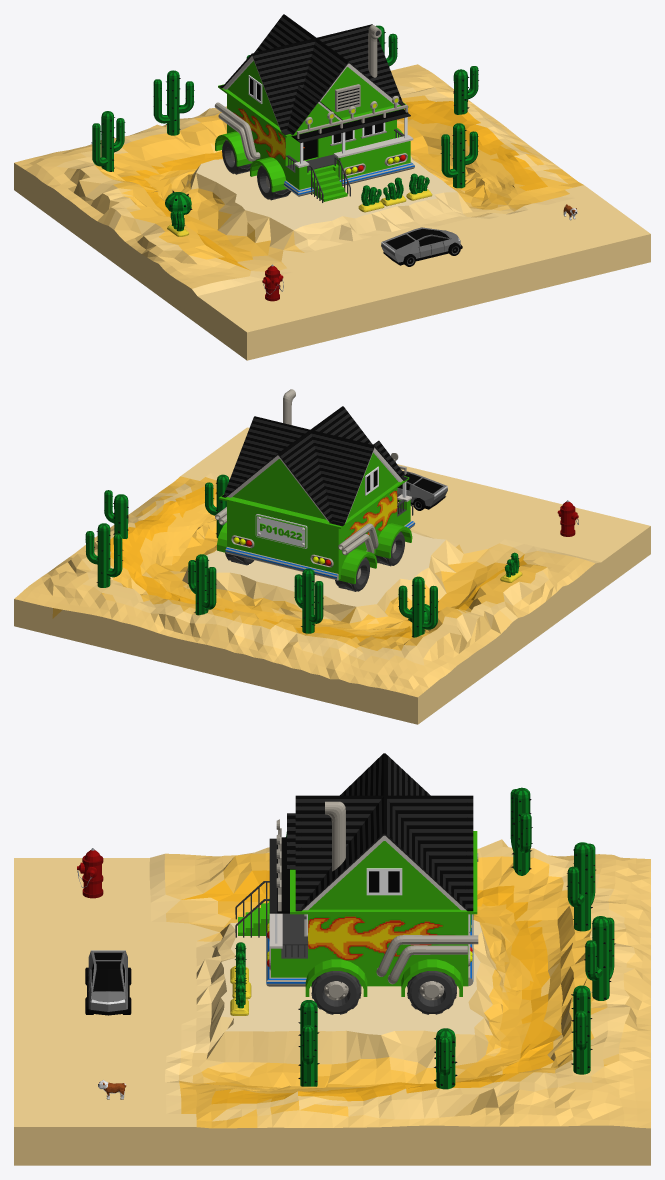
3 renders of one model, top to bottom at view 1: azimuth 30°, elevation 25°; view 2: azimuth 150°, elevation 25°; view 3: azimuth 270°, elevation 25°, orthographic. The views are drawn at different scales.
Visible parts, largest first — view 1: Cube.001, Cube.1474, VEHICLES_CYBERTRUCK, Cylinder.044, Cylinder.037, Cylinder.045, Cylinder.038, OBJRANDOM_FIRE_HYDRANT, Cylinder.041, Cylinder.039; view 2: Cube.001, Cube.1474, Cylinder.042, Cylinder.045, Cylinder.044, Cylinder.043, VEHICLES_CYBERTRUCK, Cylinder.038, Cylinder.037, OBJRANDOM_FIRE_HYDRANT; view 3: Cube.001, Cube.1474, VEHICLES_CYBERTRUCK, Cylinder.043, Cylinder.044, Cylinder.045, Cylinder.042, Cylinder.037, Cylinder.038, OBJRANDOM_FIRE_HYDRANT.
Boxes of the visible parts, x1,y1,x2,y2 form: Cube.001: (14,64,650,360); Cube.1474: (214,14,414,202); VEHICLES_CYBERTRUCK: (381,227,462,266); Cylinder.044: (153,70,194,135); Cylinder.037: (440,123,478,188); Cylinder.045: (91,111,125,171); Cylinder.038: (453,66,478,114); OBJRANDOM_FIRE_HYDRANT: (262,264,283,301); Cylinder.041: (406,173,432,200); Cylinder.039: (358,185,384,212); Cube.001: (14,427,650,724); Cube.1474: (215,389,415,591); Cylinder.042: (85,523,123,587); Cylinder.045: (398,576,438,637); Cylinder.044: (294,568,323,633); Cylinder.043: (188,554,216,615); VEHICLES_CYBERTRUCK: (397,471,447,510); Cylinder.038: (104,490,128,538); Cylinder.037: (205,474,229,538); OBJRANDOM_FIRE_HYDRANT: (557,500,578,536); Cube.001: (14,839,650,1165); Cube.1474: (235,753,478,1014); VEHICLES_CYBERTRUCK: (85,950,131,1015); Cylinder.043: (584,916,615,1000); Cylinder.044: (566,842,595,931); Cylinder.045: (510,787,532,875); Cylinder.042: (571,985,592,1074); Cylinder.037: (298,1000,319,1086); Cylinder.038: (434,1028,457,1089); OBJRANDOM_FIRE_HYDRANT: (77,848,103,898).
Bounding box in the file's own units: 4002 × 1872 × 4001.
Materials: 34 (3 with a texture image).
